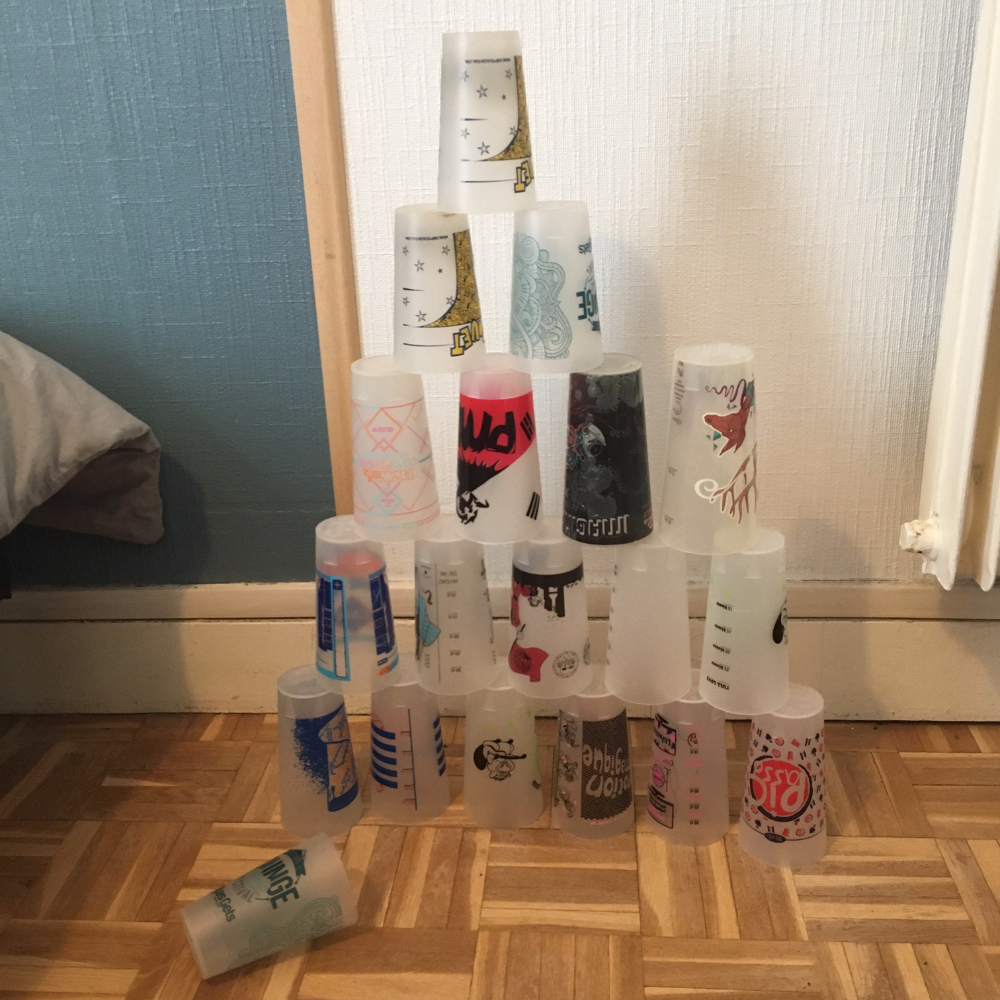ecocup: (181, 833, 357, 979), (659, 345, 760, 554), (436, 32, 538, 213), (563, 353, 654, 545), (698, 526, 790, 715), (454, 353, 545, 544), (352, 355, 441, 542), (508, 200, 603, 374), (738, 683, 826, 866), (604, 522, 691, 705), (394, 204, 486, 373), (314, 514, 400, 694), (509, 514, 592, 698), (415, 514, 498, 695), (645, 668, 729, 845), (277, 665, 363, 837), (552, 665, 635, 838), (463, 656, 545, 829), (370, 654, 450, 822)
